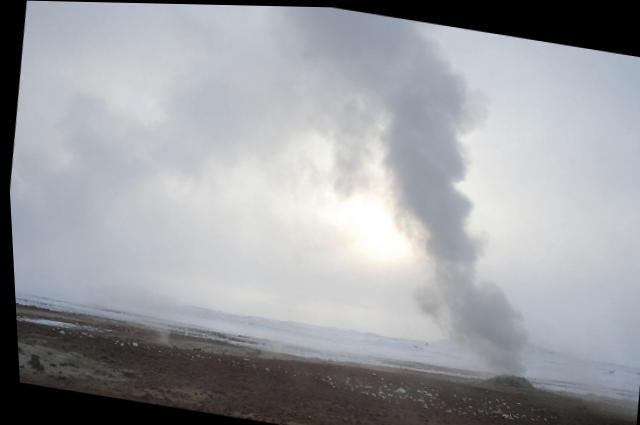smoke: (372, 56, 483, 123), (372, 109, 475, 173), (367, 11, 469, 72), (455, 286, 530, 360), (295, 5, 375, 68), (402, 166, 480, 226), (420, 223, 483, 287)
